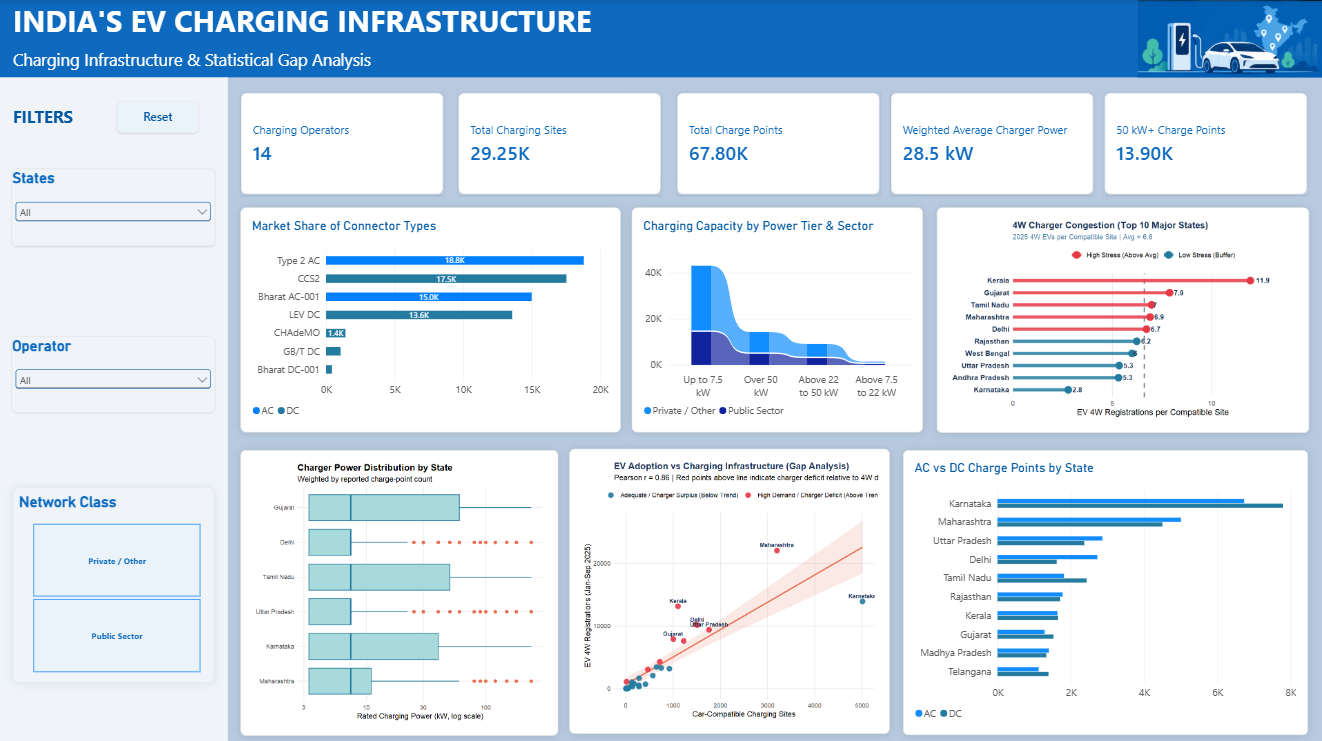

The dashboard page shown, as its layout file describes it:
{"tool":"powerbi","page":{"name":"Charging Infrastructure & Statistical Gap Analysis","canvas":[1920,1080],"ordinal":1},"visuals":[{"type":"textbox","box":[0,0,1920.1,112.2],"z":0},{"type":"textbox","box":[21.4,0,971.4,71.4],"z":1000},{"type":"textbox","box":[21.4,71.4,707.1,51.4],"z":2000},{"type":"clusteredBarChart","title":"AC vs DC Charge Points by State","fields":{"Category":["Dim_Cities.State"],"Series":["EV_Charging_Connectors.AC_DC"],"Y":["Sum(EV_Charging_Connectors.Number_of_Points)"]},"box":[1310.2,651.1,586.3,412.6],"z":3000},{"type":"scriptVisual","title":"- EV Adoption vs Charging Infrastructure","fields":{"Values":["Dim_Cities.State","EV_Registrations_Monthly_City.EV 4W Registrations Jan-Sep 2025","EV_Charging_Connectors.Car-Compatible Sites"]},"box":[827.1,650.5,464.4,412.6],"z":4000},{"type":"scriptVisual","title":"Charger Power Distribution by State","fields":{"Values":["EV_Charging_Connectors.State","Sum(EV_Charging_Connectors.Number_of_Points)","EV_Charging_Connectors.Connector_ID","Sum(EV_Charging_Connectors.Power_kW)"]},"box":[351.2,651.5,459.7,413.4],"z":5000},{"type":"image","box":[1648.6,0,271.4,112.2],"z":6000},{"type":"barChart","title":"Market Share of Connector Types","fields":{"Category":["EV_Charging_Connectors.Connector_Type"],"Series":["EV_Charging_Connectors.AC_DC"],"Y":["Sum(EV_Charging_Connectors.Number_of_Points)"]},"box":[351.1,300.4,550.1,325.7],"z":7000},{"type":"cardVisual","fields":{"Data":["EV_Charging_Connectors.50 kW+ Charge Points"]},"box":[1601.5,133.9,294.3,148.6],"z":8000},{"type":"cardVisual","fields":{"Data":["EV_Charging_Connectors.Weighted Average Charger Power"]},"box":[1292.1,133.9,294.3,148.6],"z":9000},{"type":"cardVisual","fields":{"Data":["EV_Charging_Sites.Total Charge Points"]},"box":[982.6,133.9,294.3,148.6],"z":10000},{"type":"cardVisual","fields":{"Data":["EV_Charging_Sites.Total Charging Sites"]},"box":[666,133.9,294.3,148.6],"z":11000},{"type":"cardVisual","fields":{"Data":["EV_Charging_Sites.Listed Network Categories"]},"box":[351.1,133.9,294.3,148.6],"z":12000},{"type":"shape","box":[0,112.2,333,968.2],"z":13000},{"type":"textbox","box":[21.7,152,150.2,39.8],"z":14000},{"type":"actionButton","box":[171.9,146.6,119.4,45.2],"z":15000},{"type":"slicer","title":"States","fields":{"Values":["Dim_Cities.State"]},"box":[20,244,294,112],"z":16000},{"type":"slicer","title":"Network Class","fields":{"Values":["EV_Charging_Sites.Network_Class"]},"box":[21.7,705.8,291.4,282.3],"z":17000},{"type":"slicer","title":"Operator","fields":{"Values":["EV_Charging_Sites.Operator"]},"box":[20,486,294,110],"z":18000},{"type":"ribbonChart","title":"Charging Capacity by Power Tier & Sector","fields":{"Category":["EV_Charging_Sites.Power_Class"],"Series":["EV_Charging_Sites.Network_Class"],"Y":["EV_Charging_Sites.Total Charge Points"]},"box":[917.5,300.4,421.7,325.7],"z":19000},{"type":"scriptVisual","fields":{"Values":["Dim_Cities.State","EV_Registrations_Monthly_City.EV 4W Registrations Jan-Sep 2025","EV_Registrations_Monthly_City.4W Registrations per Compatible Site"]},"box":[1358.6,301.3,539.2,326.2],"z":20000}]}

Visuals, with their boxes in screenshot pixels (x1, y1, x2, y2), scaled from the page's 1920x1080 canvas onto the 1322x741 screenshot:
textbox: <bbox>0, 0, 1321, 77</bbox>
textbox: <bbox>15, 0, 684, 49</bbox>
textbox: <bbox>15, 49, 502, 84</bbox>
"AC vs DC Charge Points by State" clusteredBarChart: <bbox>902, 447, 1306, 730</bbox>
"- EV Adoption vs Charging Infrastructure" scriptVisual: <bbox>569, 446, 889, 729</bbox>
"Charger Power Distribution by State" scriptVisual: <bbox>242, 447, 558, 731</bbox>
image: <bbox>1135, 0, 1321, 77</bbox>
"Market Share of Connector Types" barChart: <bbox>242, 206, 621, 430</bbox>
cardVisual - EV_Charging_Connectors.50 kW+ Charge Points: <bbox>1103, 92, 1305, 194</bbox>
cardVisual - EV_Charging_Connectors.Weighted Average Charger Power: <bbox>890, 92, 1092, 194</bbox>
cardVisual - EV_Charging_Sites.Total Charge Points: <bbox>677, 92, 879, 194</bbox>
cardVisual - EV_Charging_Sites.Total Charging Sites: <bbox>459, 92, 661, 194</bbox>
cardVisual - EV_Charging_Sites.Listed Network Categories: <bbox>242, 92, 444, 194</bbox>
shape: <bbox>0, 77, 229, 740</bbox>
textbox: <bbox>15, 104, 118, 132</bbox>
actionButton: <bbox>118, 101, 201, 132</bbox>
"States" slicer: <bbox>14, 167, 216, 244</bbox>
"Network Class" slicer: <bbox>15, 484, 216, 678</bbox>
"Operator" slicer: <bbox>14, 333, 216, 409</bbox>
"Charging Capacity by Power Tier & Sector" ribbonChart: <bbox>632, 206, 922, 430</bbox>
scriptVisual - Dim_Cities.State x EV_Registrations_Monthly_City.EV 4W Registrations Jan-Sep 2025: <bbox>935, 207, 1307, 431</bbox>
